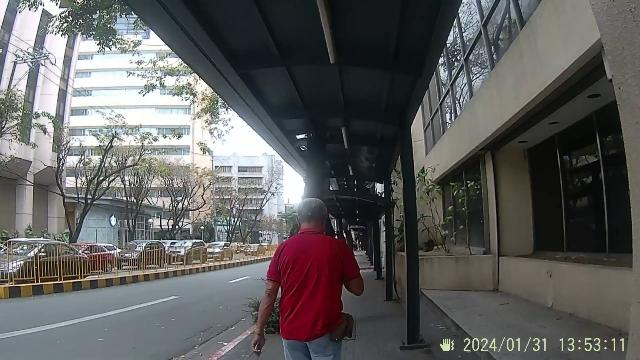tree: (60, 162, 96, 244)
